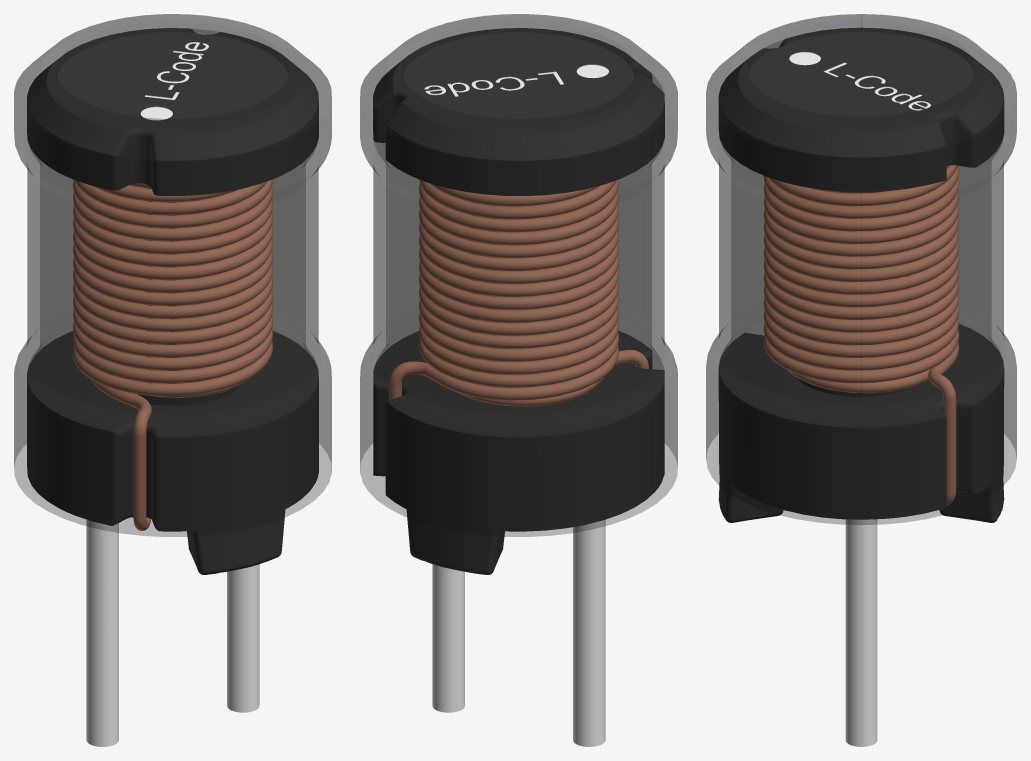
Rendered from WE-TI Radial Leaded Wire Wound Inductor.gltf.
3 renders of one model, left to right at view 1: azimuth 30°, elevation 25°; view 2: azimuth 150°, elevation 25°; view 3: azimuth 270°, elevation 25°, orthographic. The views are drawn at different scales.
Parts seen in each view (by area): view 1: WE-TI_XS, Schirm; view 2: WE-TI_XS, Schirm; view 3: Schirm, WE-TI_XS.
Part boxes in pixels (left/top/right/bottom): WE-TI_XS: left=27, top=28, right=318, bottom=746; Schirm: left=14, top=14, right=331, bottom=536; WE-TI_XS: left=373, top=28, right=664, bottom=746; Schirm: left=360, top=14, right=677, bottom=536; Schirm: left=706, top=14, right=1016, bottom=524; WE-TI_XS: left=718, top=27, right=1004, bottom=746.
Bounding box in the file's own units: 0.0049 × 0.0111 × 0.0049.
